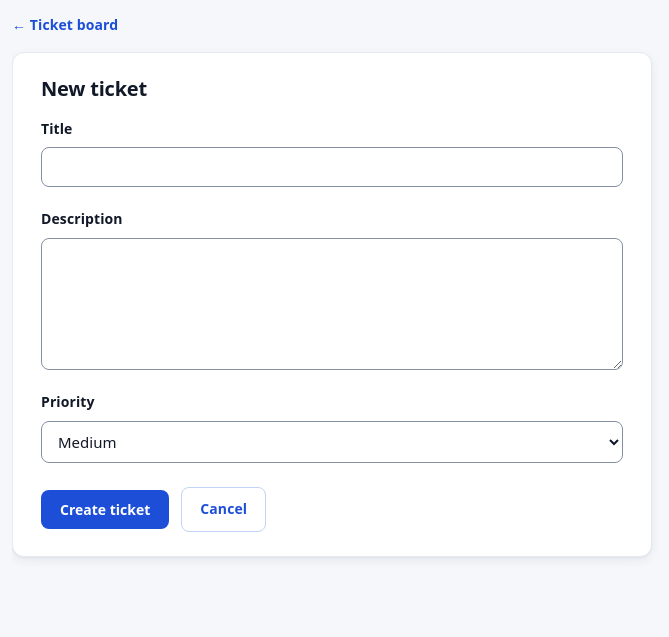
it: New ticket page › shows an error and keeps focus on the title when it is left empty
Expected: the text "Enter a title." is not shown
Click the button "Create ticket" at (105, 510), box [41,490,169,529]
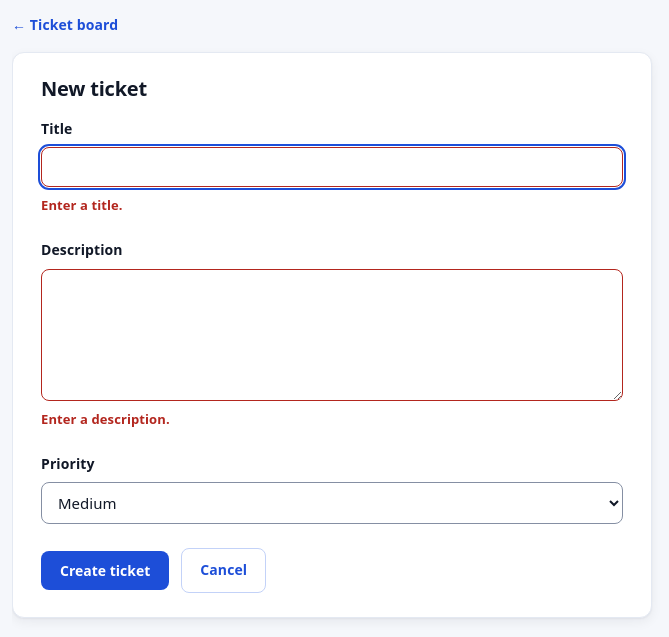
Result: the text "Enter a title." is shown at [41,196,123,214]
